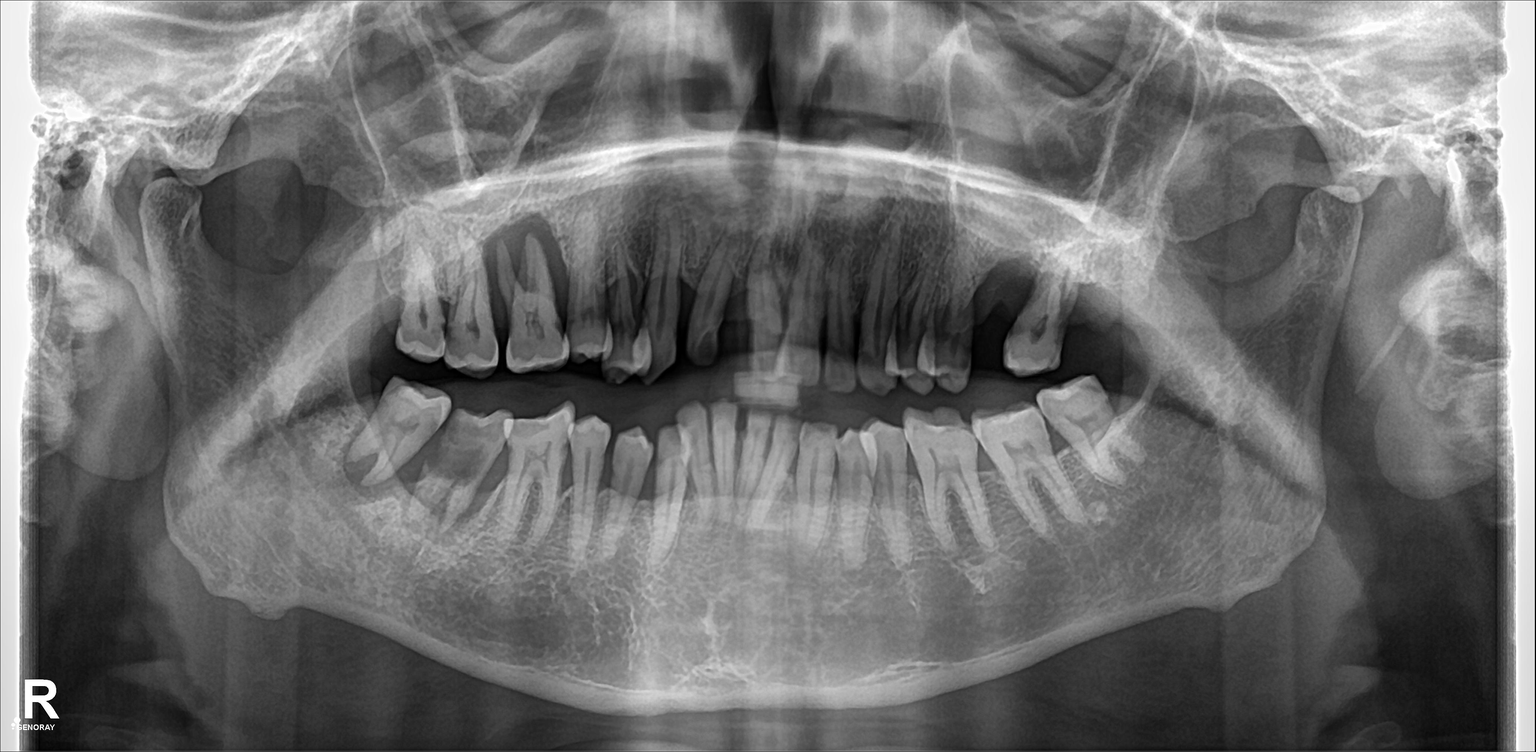Dental Caries: (436, 413, 487, 481)
Missing Tooth: (972, 253, 1010, 368), (1076, 262, 1119, 361)
Periapical Lesion: (425, 411, 508, 533)
